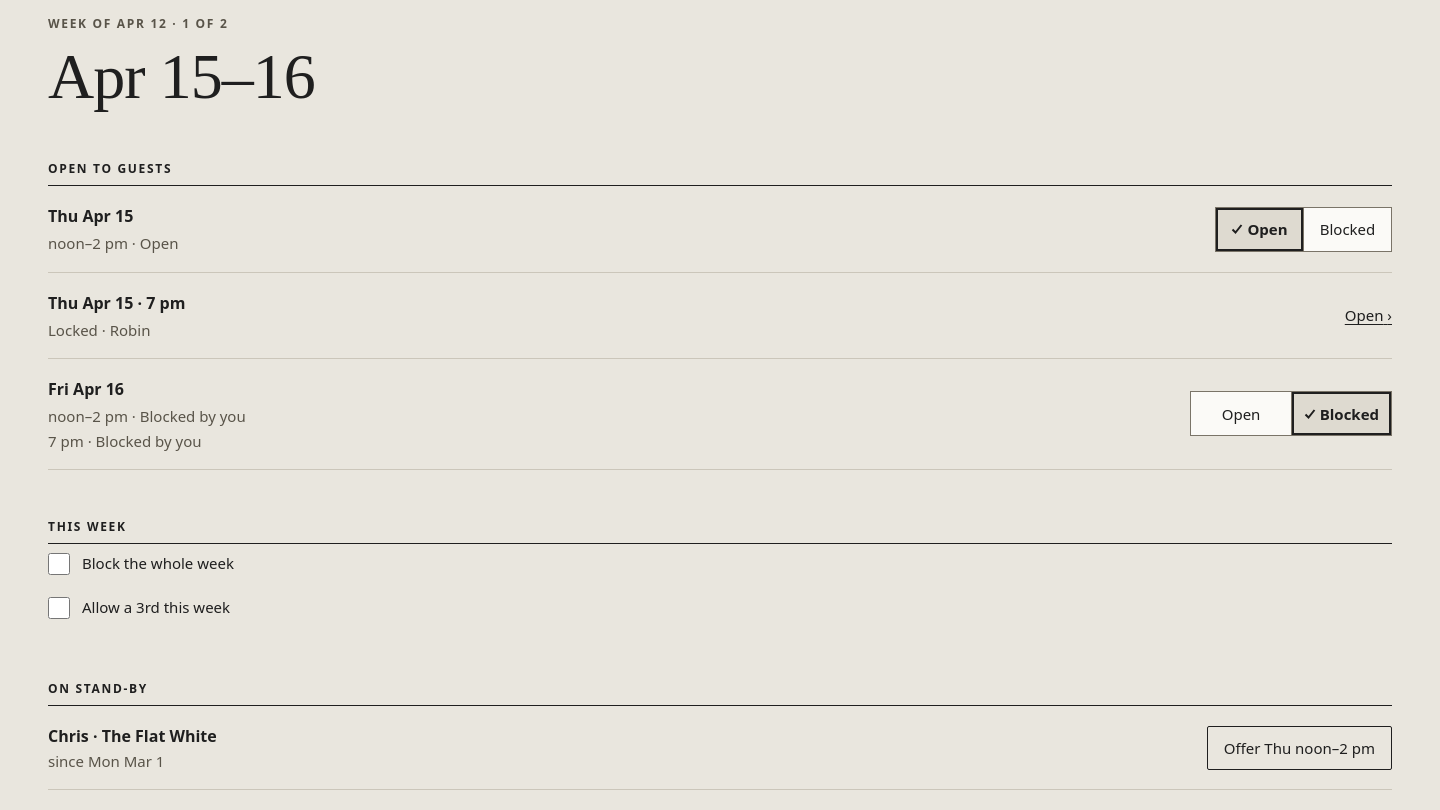
Test: WeekEditor › the bookings changed since the preview: asks again with the new list
Step 1. Click the radio button labelled "Blocked" in the row of "· Open" → (1348, 230), box x1=1304 y1=208 x2=1392 y2=252
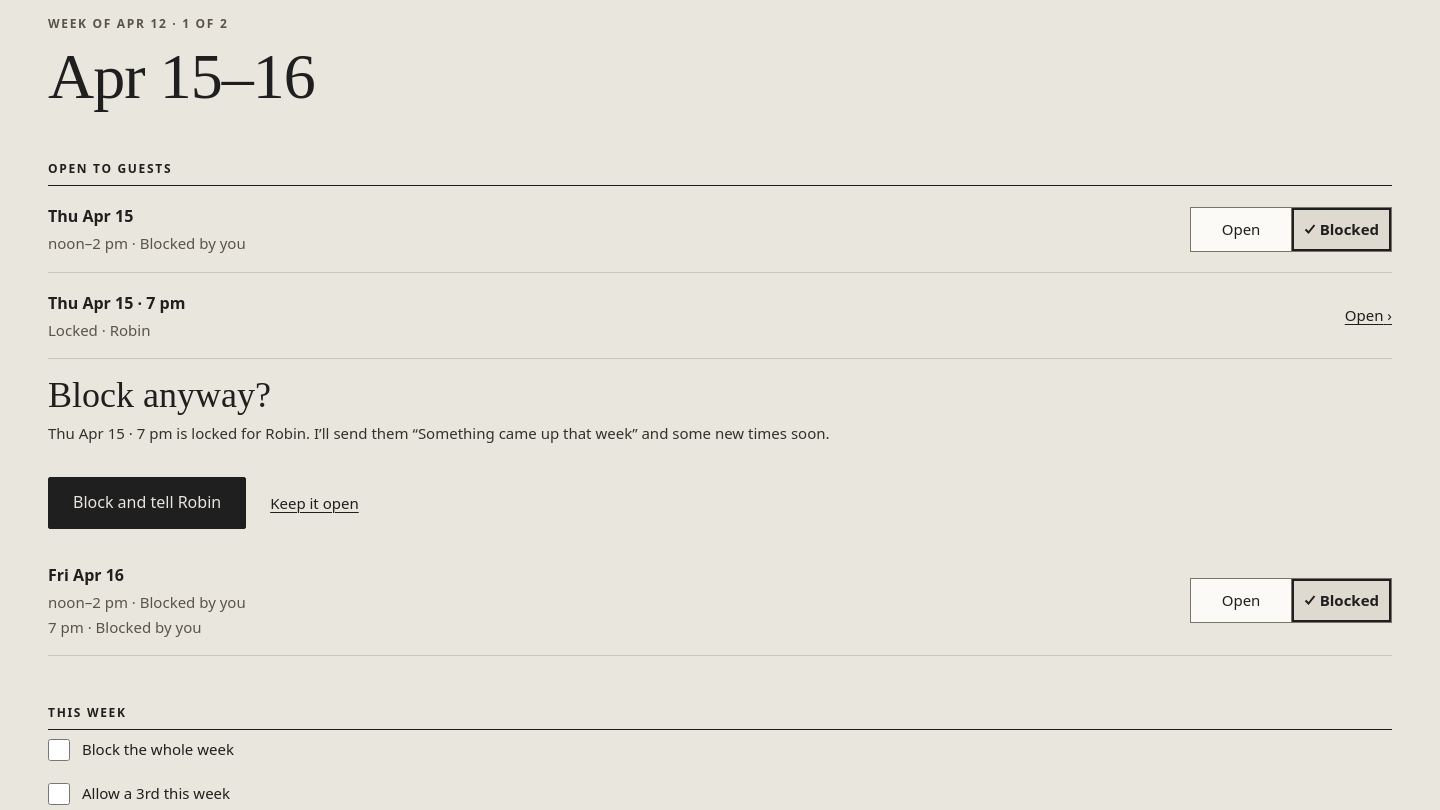
Step 2. Click the button "Block and tell Robin" → (147, 503), box x1=48 y1=477 x2=246 y2=529
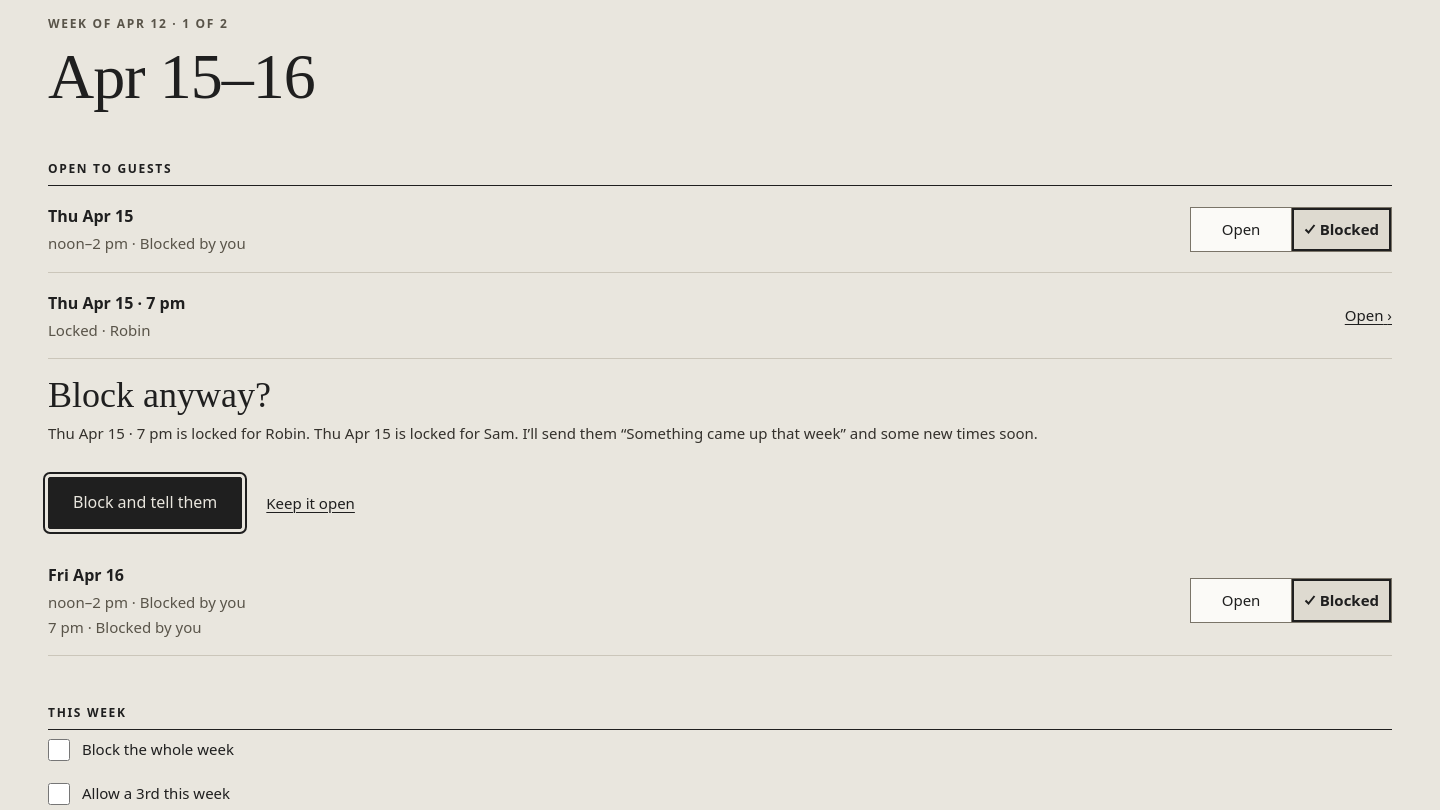
Check: the button "Block and tell them" is shown, box x1=48 y1=477 x2=242 y2=529
